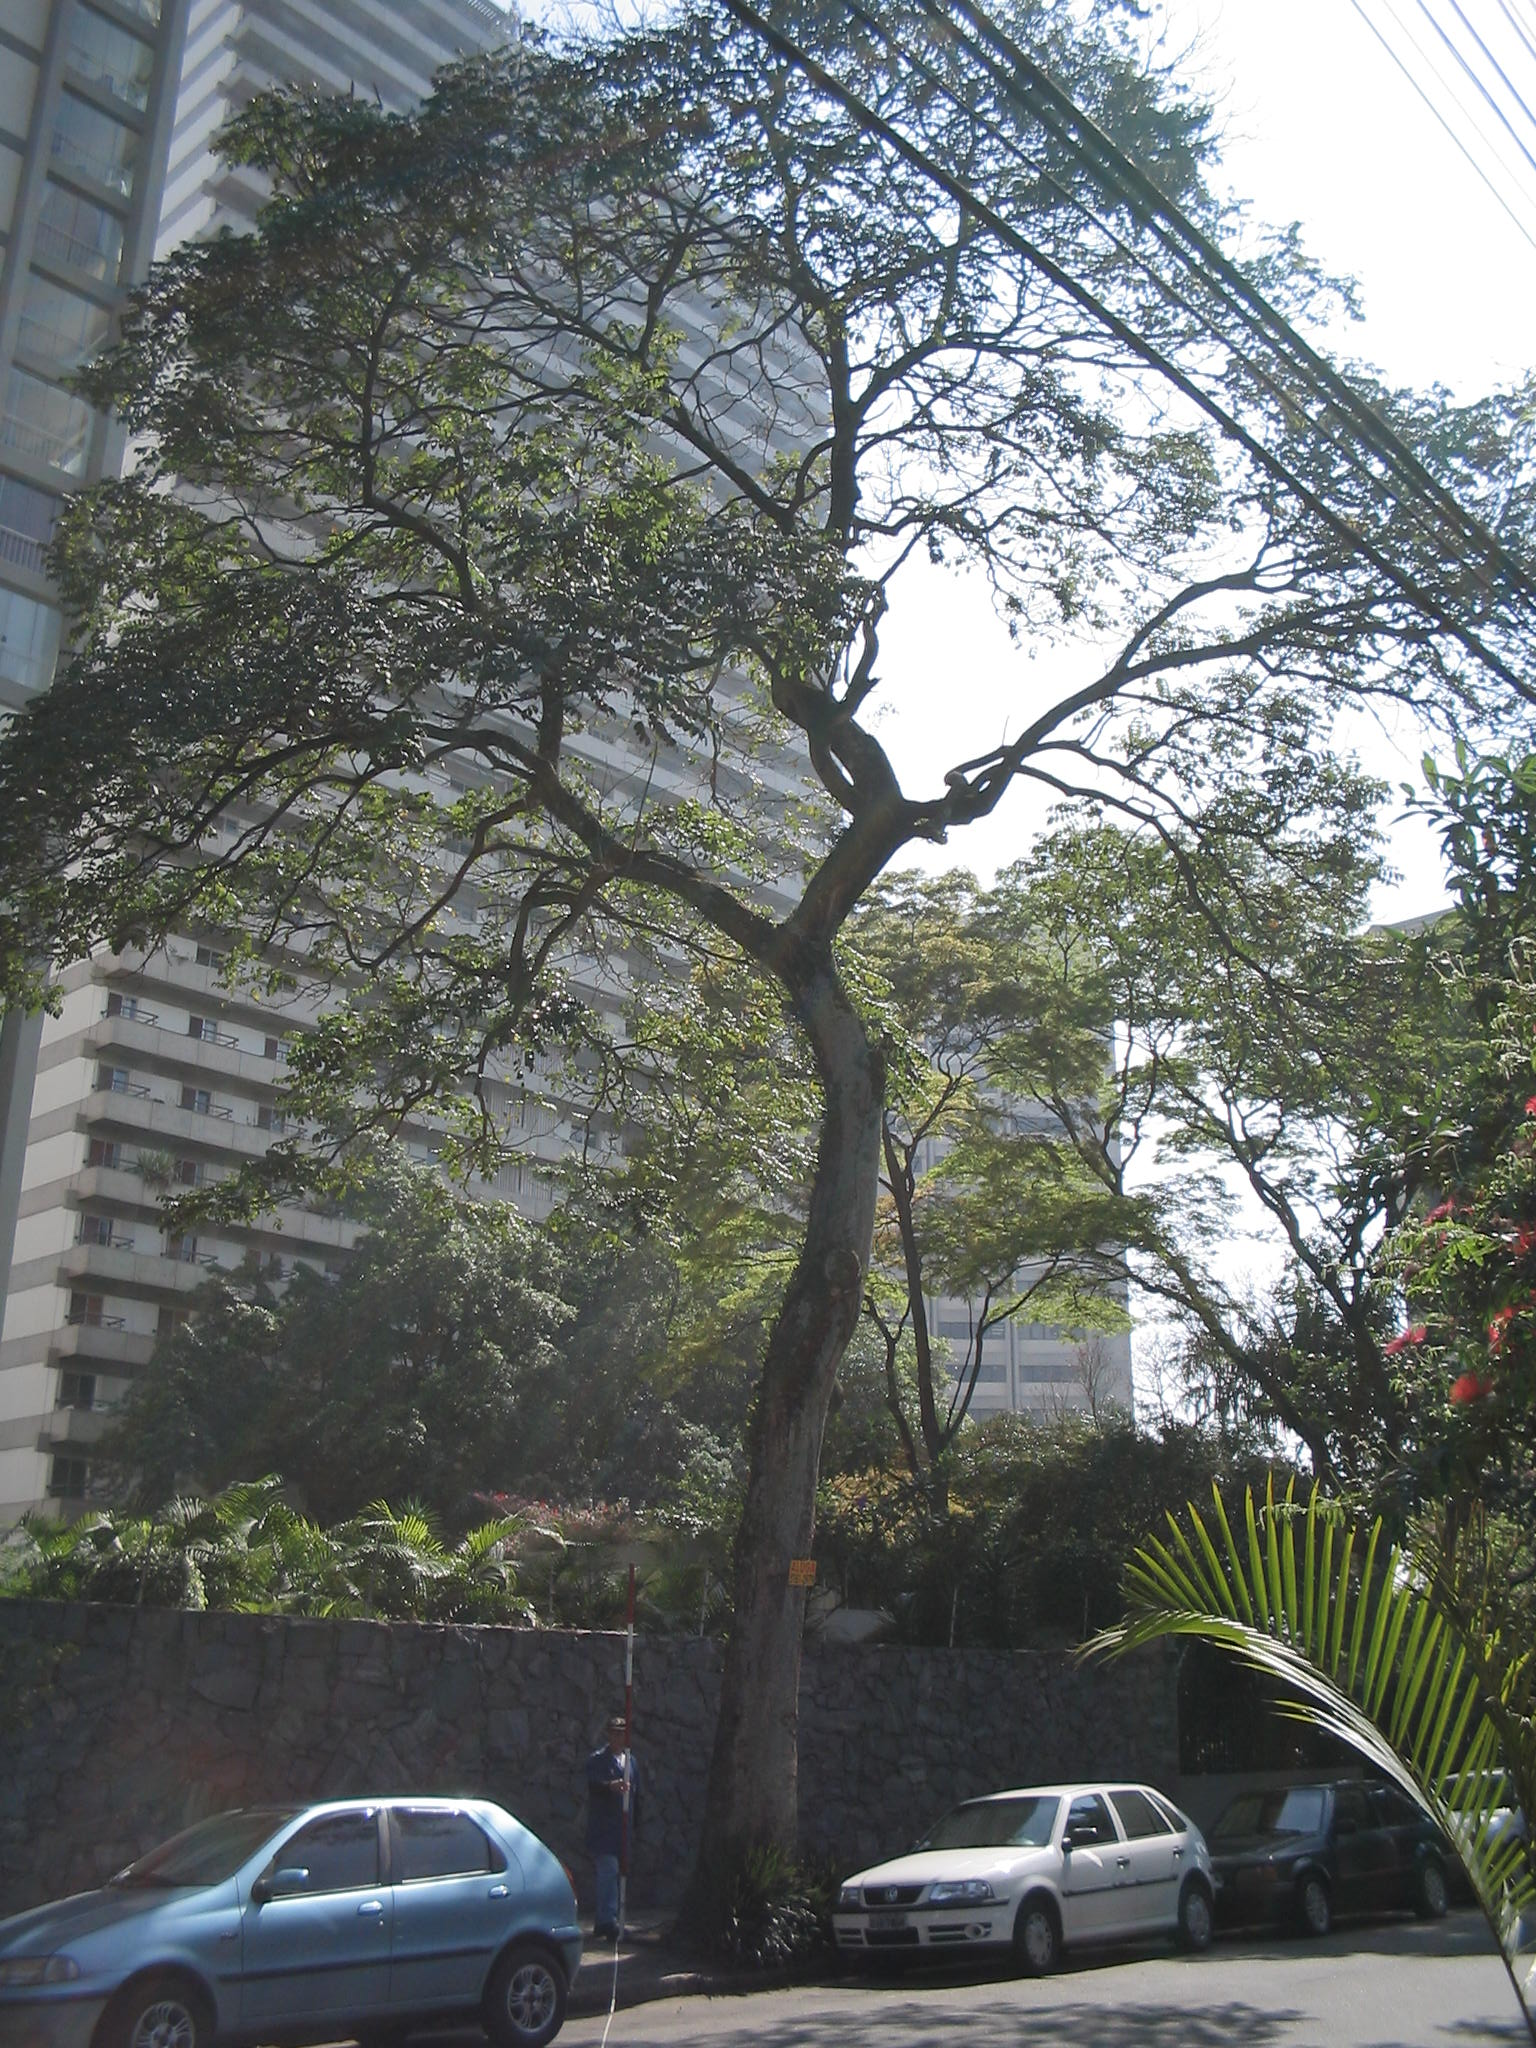crown: (10, 3, 1525, 1255)
stem: (665, 963, 904, 1961)
stick: (595, 1563, 668, 1946)
tree: (2, 2, 1536, 1966)
